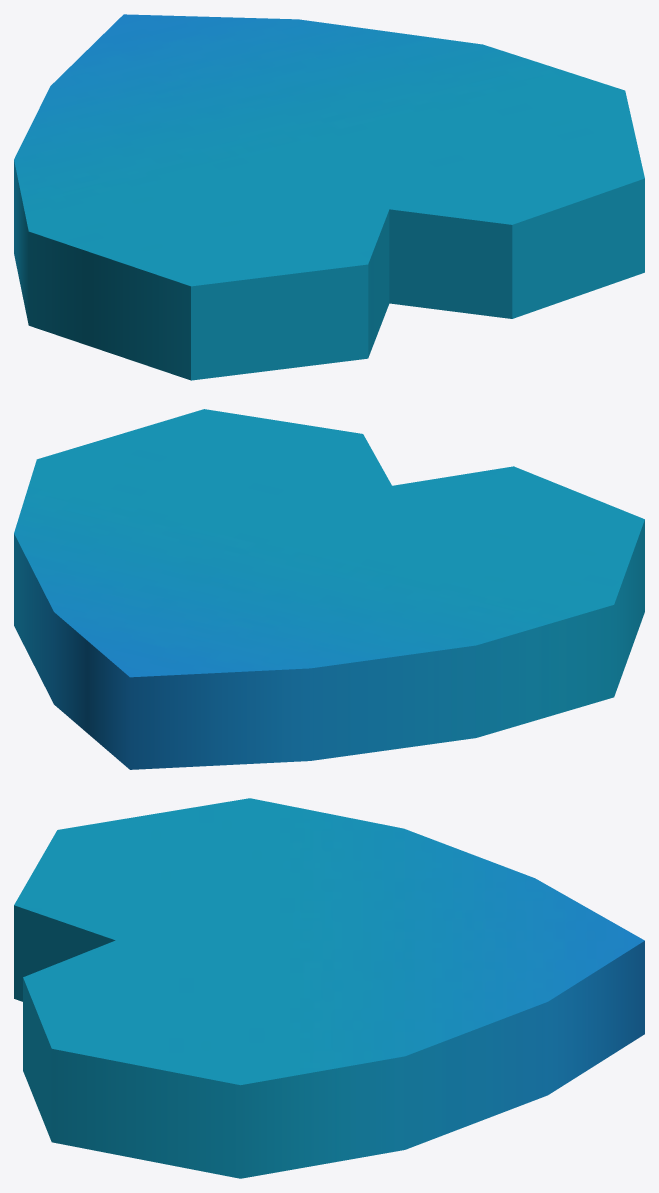
Rendered from SM_Shape_Heart__01.fbx.
The picture shows the model from 3 angles, top to bottom: view 1: azimuth 30°, elevation 25°; view 2: azimuth 150°, elevation 25°; view 3: azimuth 270°, elevation 25°; orthographic projection.
Parts seen in each view (by area): view 1: SM_Shape_Heart__01; view 2: SM_Shape_Heart__01; view 3: SM_Shape_Heart__01.
Boxes of the visible parts, bbox=[...] form: SM_Shape_Heart__01: bbox=[14, 14, 644, 380]; SM_Shape_Heart__01: bbox=[14, 409, 644, 769]; SM_Shape_Heart__01: bbox=[14, 798, 644, 1178].
Size of the model in its own units: 7.69 by 1.17 by 7.14.
